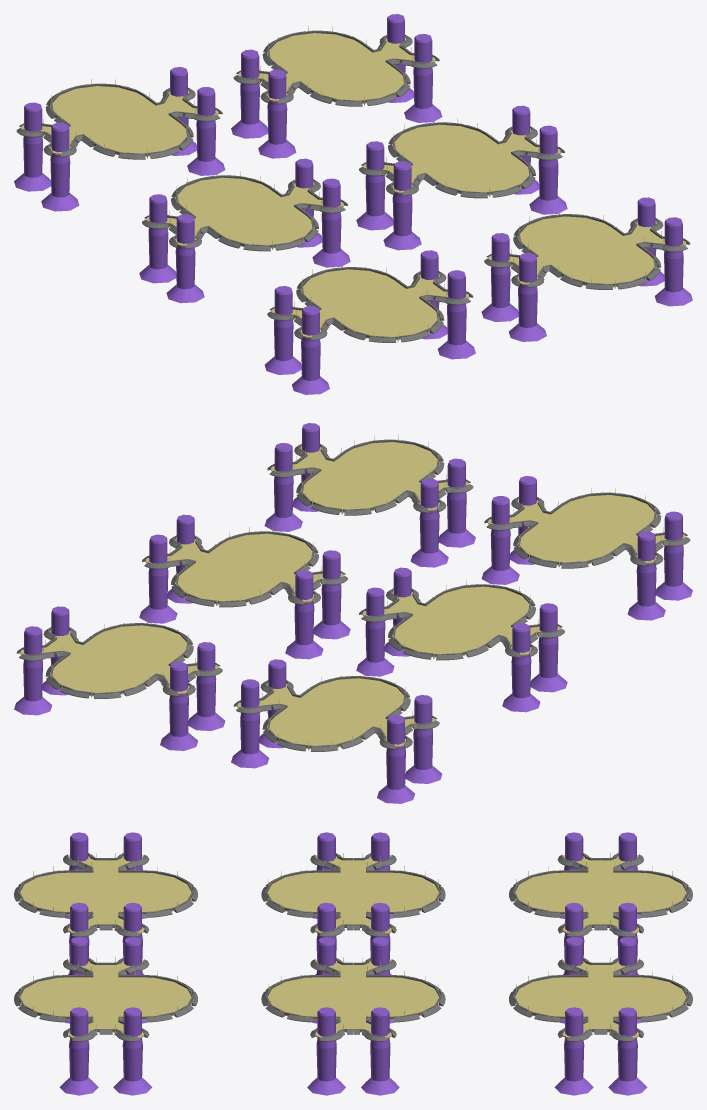
The model's file is landPad6_mesh_lores.DAE.
The picture shows the model from 3 angles, top to bottom: view 1: azimuth 30°, elevation 25°; view 2: azimuth 150°, elevation 25°; view 3: azimuth 270°, elevation 25°; orthographic projection.
Parts seen in each view (by area): view 1: PadSurface02_001, PadSurface03_001, PadSurface_001, PadSurface01_001, PadSurface04_001, PadSurface05_001, PadSurface02_003_001, PadSurface01_003_001, PadSurface03_003_001, PadSurface_003_001, PadSurface05_003_001, PadSurface04_003_001 (+12 smaller); view 2: PadSurface03_001, PadSurface02_001, PadSurface04_001, PadSurface05_001, PadSurface01_001, PadSurface_001, PadSurface02_003_001, PadSurface05_003_001, PadSurface04_003_001, PadSurface03_003_001, PadSurface01_003_001, PadSurface_003_001 (+12 smaller); view 3: PadSurface03_001, PadSurface01_001, PadSurface05_001, PadSurface04_001, PadSurface_001, PadSurface02_001, PadSurface04_003_001, PadSurface_003_001, PadSurface02_003_001, PadSurface03_003_001, PadSurface05_003_001, PadSurface01_003_001 (+12 smaller).
Boxes of the visible parts, bbox=[...] form: PadSurface02_001: bbox=[363, 124, 560, 195]; PadSurface03_001: bbox=[146, 177, 343, 248]; PadSurface_001: bbox=[237, 33, 435, 103]; PadSurface01_001: bbox=[20, 86, 218, 156]; PadSurface04_001: bbox=[488, 216, 686, 287]; PadSurface05_001: bbox=[271, 269, 469, 340]; PadSurface02_003_001: bbox=[356, 105, 567, 250]; PadSurface01_003_001: bbox=[14, 67, 225, 211]; PadSurface03_003_001: bbox=[139, 158, 350, 303]; PadSurface_003_001: bbox=[231, 14, 442, 158]; PadSurface05_003_001: bbox=[264, 250, 475, 394]; PadSurface04_003_001: bbox=[481, 197, 692, 341]; PadSurface03_001: bbox=[362, 586, 560, 657]; PadSurface02_001: bbox=[145, 533, 343, 604]; PadSurface04_001: bbox=[271, 442, 468, 512]; PadSurface05_001: bbox=[488, 495, 685, 565]; PadSurface01_001: bbox=[237, 678, 435, 748]; PadSurface_001: bbox=[20, 625, 218, 696]; PadSurface02_003_001: bbox=[139, 514, 350, 659]; PadSurface05_003_001: bbox=[481, 476, 692, 620]; PadSurface04_003_001: bbox=[264, 423, 475, 567]; PadSurface03_003_001: bbox=[356, 567, 567, 712]; PadSurface01_003_001: bbox=[231, 659, 442, 803]; PadSurface_003_001: bbox=[14, 606, 225, 750]; PadSurface03_001: bbox=[267, 855, 440, 933]; PadSurface01_001: bbox=[515, 854, 687, 933]; PadSurface05_001: bbox=[20, 854, 192, 933]; PadSurface04_001: bbox=[20, 959, 192, 1038]; PadSurface_001: bbox=[515, 959, 686, 1038]; PadSurface02_001: bbox=[267, 959, 440, 1038]; PadSurface04_003_001: bbox=[59, 937, 152, 1095]; PadSurface_003_001: bbox=[554, 937, 647, 1095]; PadSurface02_003_001: bbox=[307, 937, 399, 1095]; PadSurface03_003_001: bbox=[313, 832, 393, 974]; PadSurface05_003_001: bbox=[65, 832, 146, 974]; PadSurface01_003_001: bbox=[560, 832, 641, 974].
Bounding box in the file's own units: 549 × 823 × 102.
